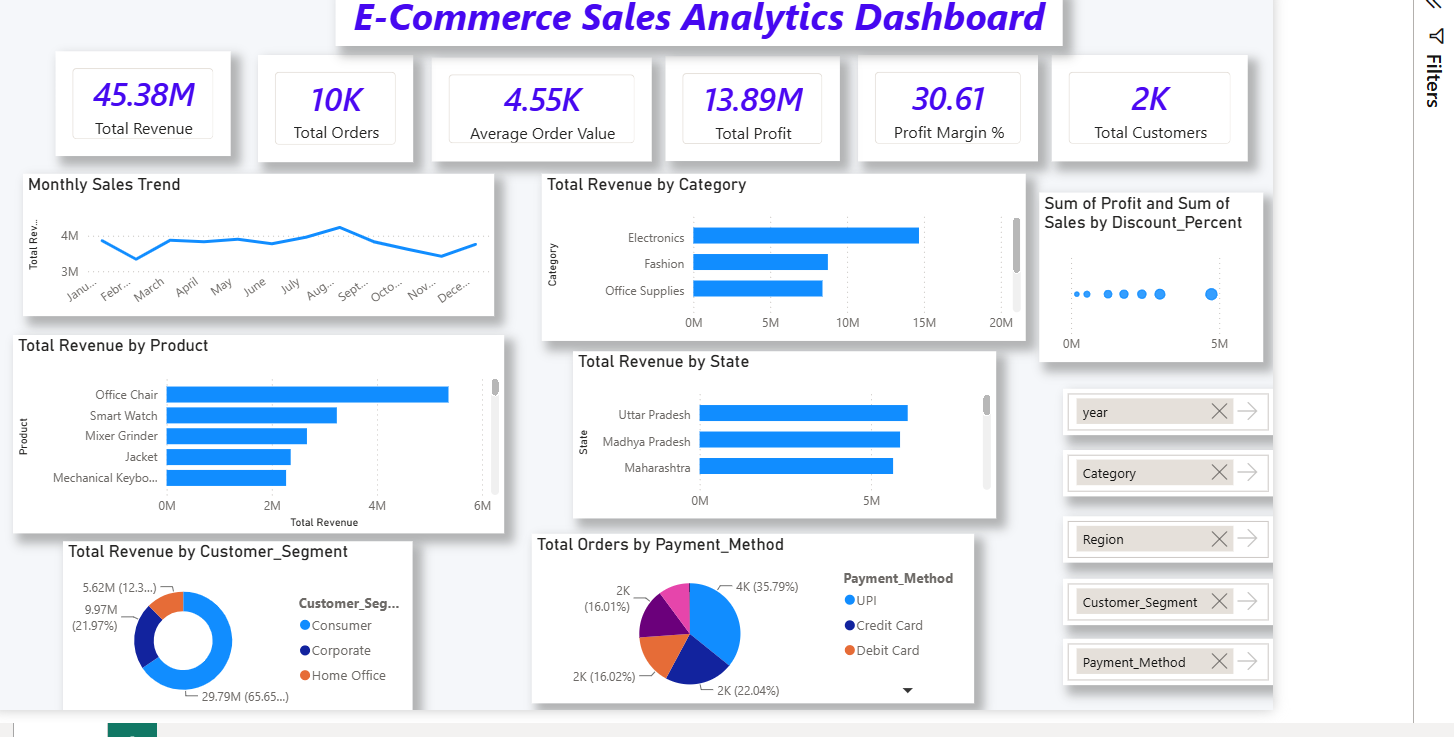

What the dashboard file says about the page in this screenshot:
{"tool":"powerbi","page":{"name":"Page 1","canvas":[1280,720],"ordinal":0},"visuals":[{"type":"cardVisual","fields":{"Data":["ecommerce_cleaned.Total Revenue"]},"box":[62.5,61.2,175,105],"z":0},{"type":"cardVisual","fields":{"Data":["ecommerce_cleaned.Profit Margin %"]},"box":[865,65,180,106],"z":1000},{"type":"cardVisual","fields":{"Data":["ecommerce_cleaned.Average Order Value"]},"box":[438.8,67.5,220,103.8],"z":2000},{"type":"cardVisual","fields":{"Data":["ecommerce_cleaned.Total Customers"]},"box":[1058.8,65,196.2,106.2],"z":3000},{"type":"cardVisual","fields":{"Data":["ecommerce_cleaned.Total Orders"]},"box":[265,65,155,107],"z":4000},{"type":"cardVisual","fields":{"Data":["ecommerce_cleaned.Total Profit"]},"box":[672.5,66.2,174,105],"z":5000},{"type":"lineChart","title":"Monthly Sales Trend","fields":{"Category":["ecommerce_cleaned.Order_Date.Variation.Date Hierarchy.Year","ecommerce_cleaned.Order_Date.Variation.Date Hierarchy.Quarter","ecommerce_cleaned.Order_Date.Variation.Date Hierarchy.Month","ecommerce_cleaned.Order_Date.Variation.Date Hierarchy.Day"],"Y":["ecommerce_cleaned.Total Revenue"]},"box":[30,183.8,471.2,142.5],"z":6000},{"type":"clusteredBarChart","fields":{"Category":["ecommerce_cleaned.Category"],"Y":["ecommerce_cleaned.Total Revenue"]},"box":[548.8,183.8,484.2,167.5],"z":7000},{"type":"barChart","fields":{"Category":["ecommerce_cleaned.Product"],"Y":["ecommerce_cleaned.Total Revenue"]},"box":[20,345,491.2,198.8],"z":8000},{"type":"barChart","fields":{"Category":["ecommerce_cleaned.State"],"Y":["ecommerce_cleaned.Total Revenue"]},"box":[580,361.2,423.1,167.5],"z":9000},{"type":"donutChart","fields":{"Category":["ecommerce_cleaned.Customer_Segment"],"Y":["ecommerce_cleaned.Total Revenue"]},"box":[70,551.2,349.7,168.8],"z":10000},{"type":"pieChart","fields":{"Category":["ecommerce_cleaned.Payment_Method"],"Y":["ecommerce_cleaned.Total Orders"]},"box":[538.8,543.8,442.7,170],"z":11000},{"type":"scatterChart","fields":{"Category":["ecommerce_cleaned.Discount_Percent"],"X":["Sum(ecommerce_cleaned.Profit)"],"Size":["Sum(ecommerce_cleaned.Sales)"]},"box":[1046.2,202.5,223.8,170],"z":12000},{"type":"textSlicer","box":[1070,398.8,210.3,46.5],"z":13000},{"type":"textSlicer","box":[1070,460,210.3,46.5],"z":14000},{"type":"textSlicer","box":[1070,526.2,210.3,46.5],"z":15000},{"type":"textSlicer","box":[1070,588.8,210.3,46.5],"z":16000},{"type":"textSlicer","box":[1070,648.8,210.3,46.5],"z":17000},{"type":"textbox","title":"E-Commerce Sales Analytics Dashboard","box":[342.5,0,727.5,56.2],"z":18000}]}

Visuals, with their boxes on the page's 1280x720 design canvas (x1, y1, x2, y2). These are canvas units, not pixel positions in the 1454x737 screenshot, which may show the page scaled, cropped or inside an application window:
cardVisual - ecommerce_cleaned.Total Revenue: bbox=(62, 61, 238, 166)
cardVisual - ecommerce_cleaned.Profit Margin %: bbox=(865, 65, 1045, 171)
cardVisual - ecommerce_cleaned.Average Order Value: bbox=(439, 68, 659, 171)
cardVisual - ecommerce_cleaned.Total Customers: bbox=(1059, 65, 1255, 171)
cardVisual - ecommerce_cleaned.Total Orders: bbox=(265, 65, 420, 172)
cardVisual - ecommerce_cleaned.Total Profit: bbox=(672, 66, 846, 171)
"Monthly Sales Trend" lineChart: bbox=(30, 184, 501, 326)
clusteredBarChart - ecommerce_cleaned.Category x ecommerce_cleaned.Total Revenue: bbox=(549, 184, 1033, 351)
barChart - ecommerce_cleaned.Product x ecommerce_cleaned.Total Revenue: bbox=(20, 345, 511, 544)
barChart - ecommerce_cleaned.State x ecommerce_cleaned.Total Revenue: bbox=(580, 361, 1003, 529)
donutChart - ecommerce_cleaned.Customer_Segment x ecommerce_cleaned.Total Revenue: bbox=(70, 551, 420, 720)
pieChart - ecommerce_cleaned.Payment_Method x ecommerce_cleaned.Total Orders: bbox=(539, 544, 982, 714)
scatterChart - ecommerce_cleaned.Discount_Percent x Sum(ecommerce_cleaned.Profit): bbox=(1046, 202, 1270, 372)
textSlicer: bbox=(1070, 399, 1280, 445)
textSlicer: bbox=(1070, 460, 1280, 506)
textSlicer: bbox=(1070, 526, 1280, 573)
textSlicer: bbox=(1070, 589, 1280, 635)
textSlicer: bbox=(1070, 649, 1280, 695)
"E-Commerce Sales Analytics Dashboard" textbox: bbox=(342, 0, 1070, 56)
